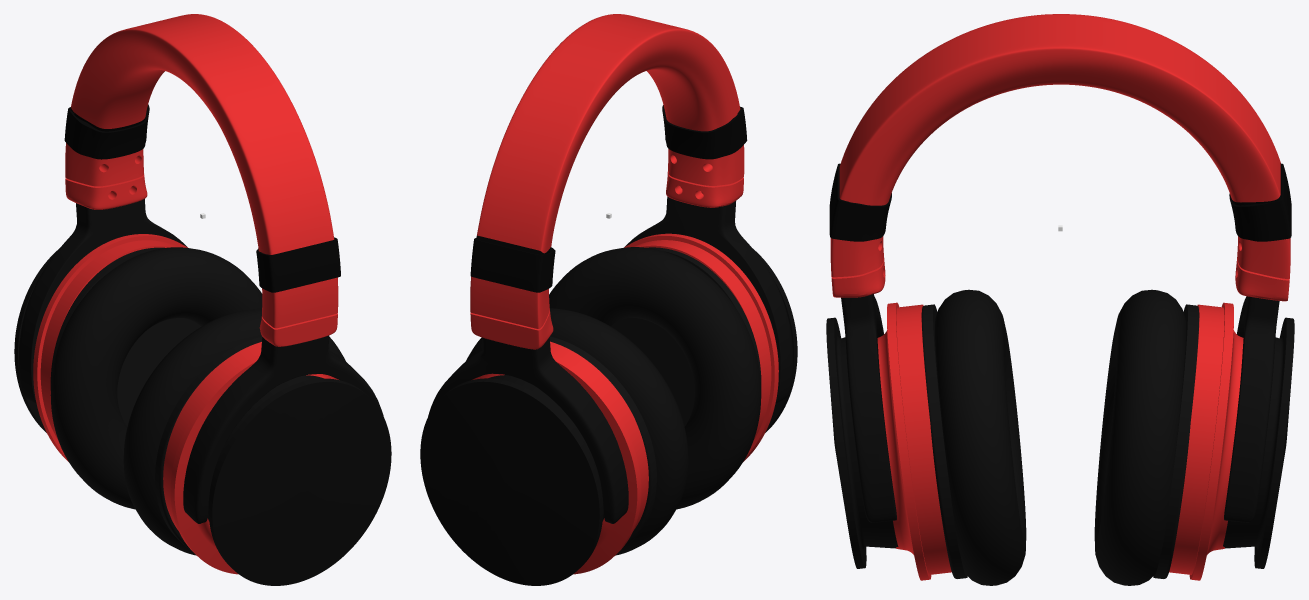
The model's file is headset2.glb.
3 renders of one model, left to right at view 1: azimuth 30°, elevation 25°; view 2: azimuth 150°, elevation 25°; view 3: azimuth 270°, elevation 25°, orthographic. The views are drawn at different scales.
Parts seen in each view (by area): view 1: Cylinder.004_6, NurbsCircle_8, Cylinder_2, Cylinder.003_5, Cylinder.001_3, Cylinder.002_4, Cylinder.005_9, Cylinder.006_10; view 2: Cylinder.004_6, NurbsCircle_8, Cylinder_2, Cylinder.003_5, Cylinder.001_3, Cylinder.002_4, Cylinder.006_10, Cylinder.005_9; view 3: Cylinder.004_6, NurbsCircle_8, Cylinder.001_3, Cylinder.003_5, Cylinder_2, Cylinder.002_4, Cylinder.005_9, Cylinder.006_10.
Boxes of the visible parts, box(x1,y1,x2,y2) form: Cylinder.004_6: box(65, 14, 338, 346); NurbsCircle_8: box(50, 247, 345, 555); Cylinder_2: box(14, 248, 391, 585); Cylinder.003_5: box(18, 199, 383, 523); Cylinder.001_3: box(33, 234, 338, 574); Cylinder.002_4: box(50, 247, 262, 550); Cylinder.005_9: box(256, 237, 340, 292); Cylinder.006_10: box(64, 104, 149, 159); Cylinder.004_6: box(470, 14, 744, 349); NurbsCircle_8: box(466, 247, 761, 555); Cylinder_2: box(420, 249, 797, 585); Cylinder.003_5: box(428, 196, 793, 523); Cylinder.001_3: box(472, 233, 778, 574); Cylinder.002_4: box(549, 247, 761, 550); Cylinder.006_10: box(470, 238, 555, 292); Cylinder.005_9: box(662, 105, 747, 159); Cylinder.004_6: box(830, 14, 1290, 301); NurbsCircle_8: box(935, 289, 1185, 585); Cylinder.001_3: box(877, 302, 1243, 580); Cylinder.003_5: box(841, 294, 1279, 522); Cylinder_2: box(826, 317, 1294, 568); Cylinder.002_4: box(921, 304, 1199, 578); Cylinder.005_9: box(829, 163, 891, 241); Cylinder.006_10: box(1229, 163, 1291, 241).
Size of the model in its own units: 2.62 by 5.56 by 4.34.
